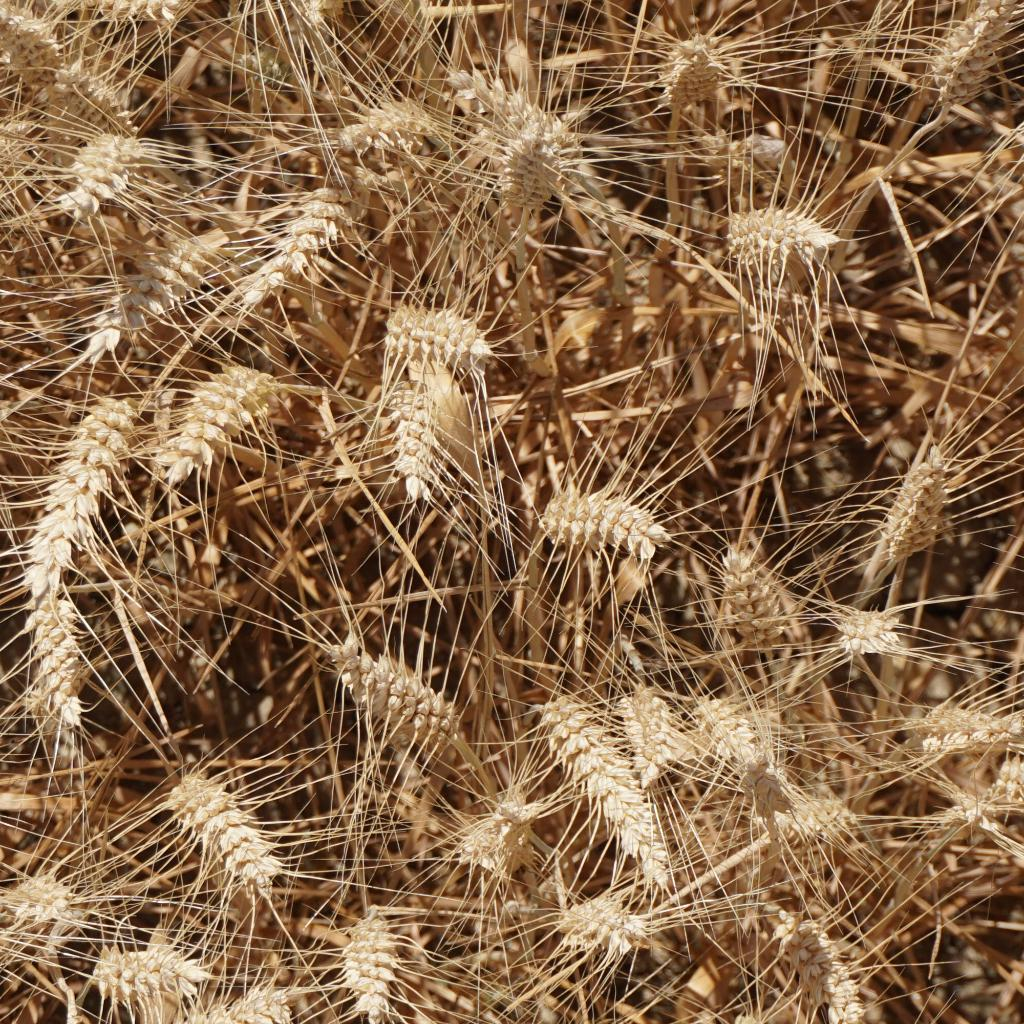0-0: (536, 702, 669, 887), (315, 620, 462, 768), (16, 402, 129, 577), (166, 752, 281, 905), (448, 62, 592, 164), (540, 472, 671, 571), (22, 603, 99, 760), (111, 227, 206, 354), (323, 903, 419, 1024), (244, 204, 339, 323), (719, 195, 837, 290), (163, 367, 265, 472), (917, 3, 1012, 115), (871, 451, 972, 553), (786, 918, 876, 1024), (608, 671, 688, 789), (715, 530, 795, 648), (452, 790, 546, 890), (379, 297, 495, 376), (687, 120, 813, 192), (645, 21, 740, 115), (382, 379, 452, 500), (331, 95, 463, 157), (52, 112, 142, 201), (92, 938, 207, 1004), (0, 8, 76, 98), (696, 688, 779, 769), (236, 32, 325, 101), (832, 590, 914, 661), (556, 886, 648, 945), (924, 692, 1024, 745), (507, 146, 567, 234), (769, 787, 853, 846), (26, 0, 189, 29), (719, 751, 784, 820), (3, 868, 78, 921), (59, 64, 120, 124), (231, 984, 294, 1024), (157, 996, 240, 1024), (0, 103, 22, 175), (39, 1009, 118, 1024), (1007, 738, 1024, 803), (725, 1009, 776, 1024)
